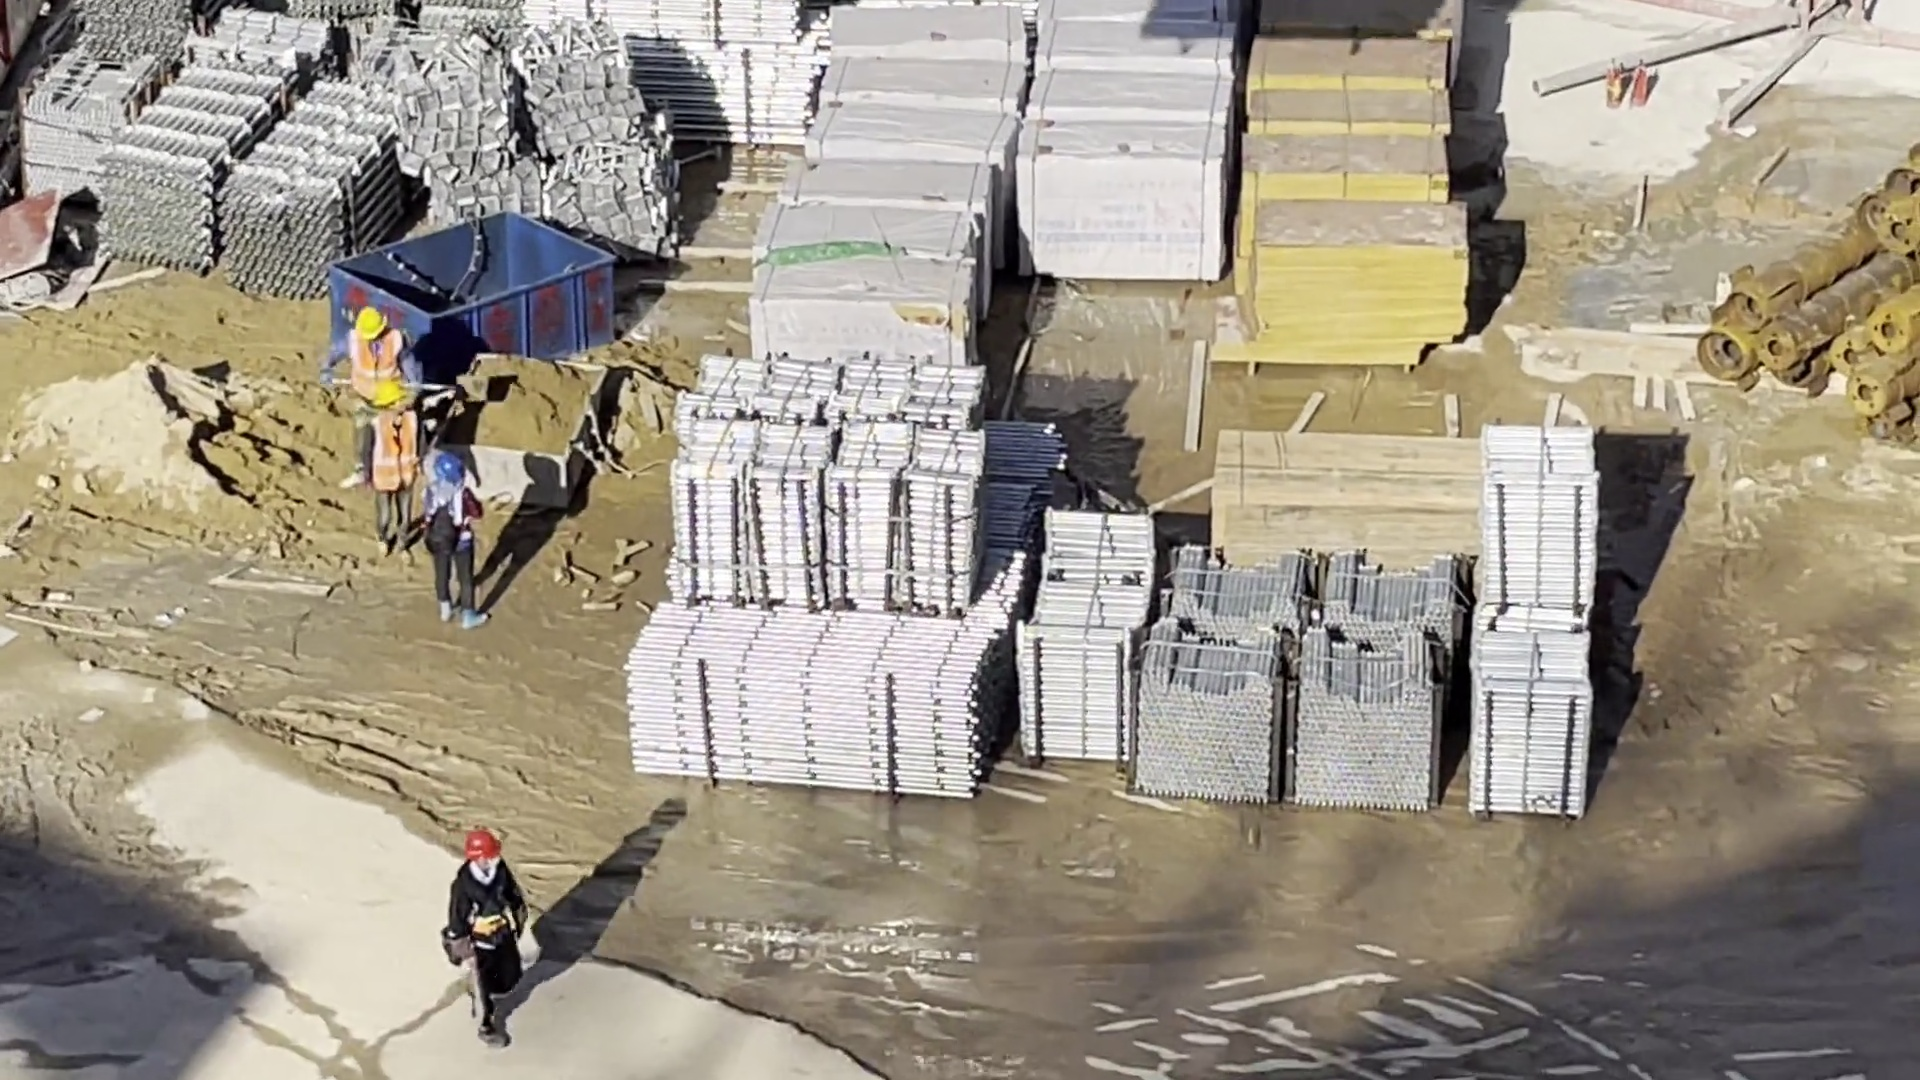board: (1248, 42, 1466, 372), (1221, 418, 1475, 556)
helmet: (463, 834, 500, 861), (356, 307, 387, 340), (434, 456, 465, 483), (377, 383, 405, 404)
hopper: (334, 214, 612, 374), (454, 349, 605, 510)
person: (454, 834, 521, 1046), (423, 457, 490, 633), (342, 308, 403, 490), (368, 384, 415, 562)
scaffold: (1128, 551, 1458, 811), (675, 354, 988, 612), (628, 599, 1000, 789), (90, 65, 394, 285), (1475, 426, 1592, 816), (538, 1, 823, 137), (1021, 500, 1148, 761)
vest: (374, 414, 412, 485), (352, 331, 397, 385), (435, 493, 474, 541)
